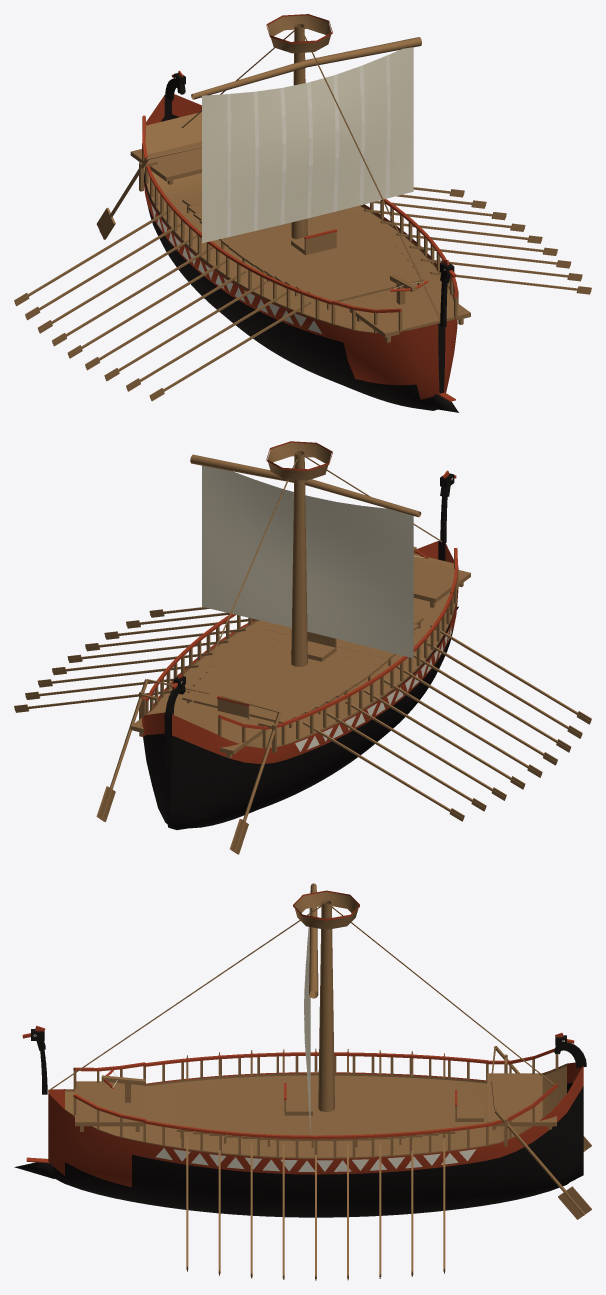
Rendered from ship_boarder_blockout_LOD0.obj.
3 renders of one model, top to bottom at view 1: azimuth 30°, elevation 25°; view 2: azimuth 150°, elevation 25°; view 3: azimuth 270°, elevation 25°, orthographic. The views are drawn at different scales.
Visible parts, largest first — view 1: ship_boarder_blockout_LOD0; view 2: ship_boarder_blockout_LOD0; view 3: ship_boarder_blockout_LOD0.
Part boxes in pixels (left/top/right/bottom): ship_boarder_blockout_LOD0: left=14, top=14, right=591, bottom=412; ship_boarder_blockout_LOD0: left=14, top=441, right=591, bottom=854; ship_boarder_blockout_LOD0: left=14, top=883, right=591, bottom=1280.
Bounding box in the file's own units: 24.49 × 15.29 × 26.38.
